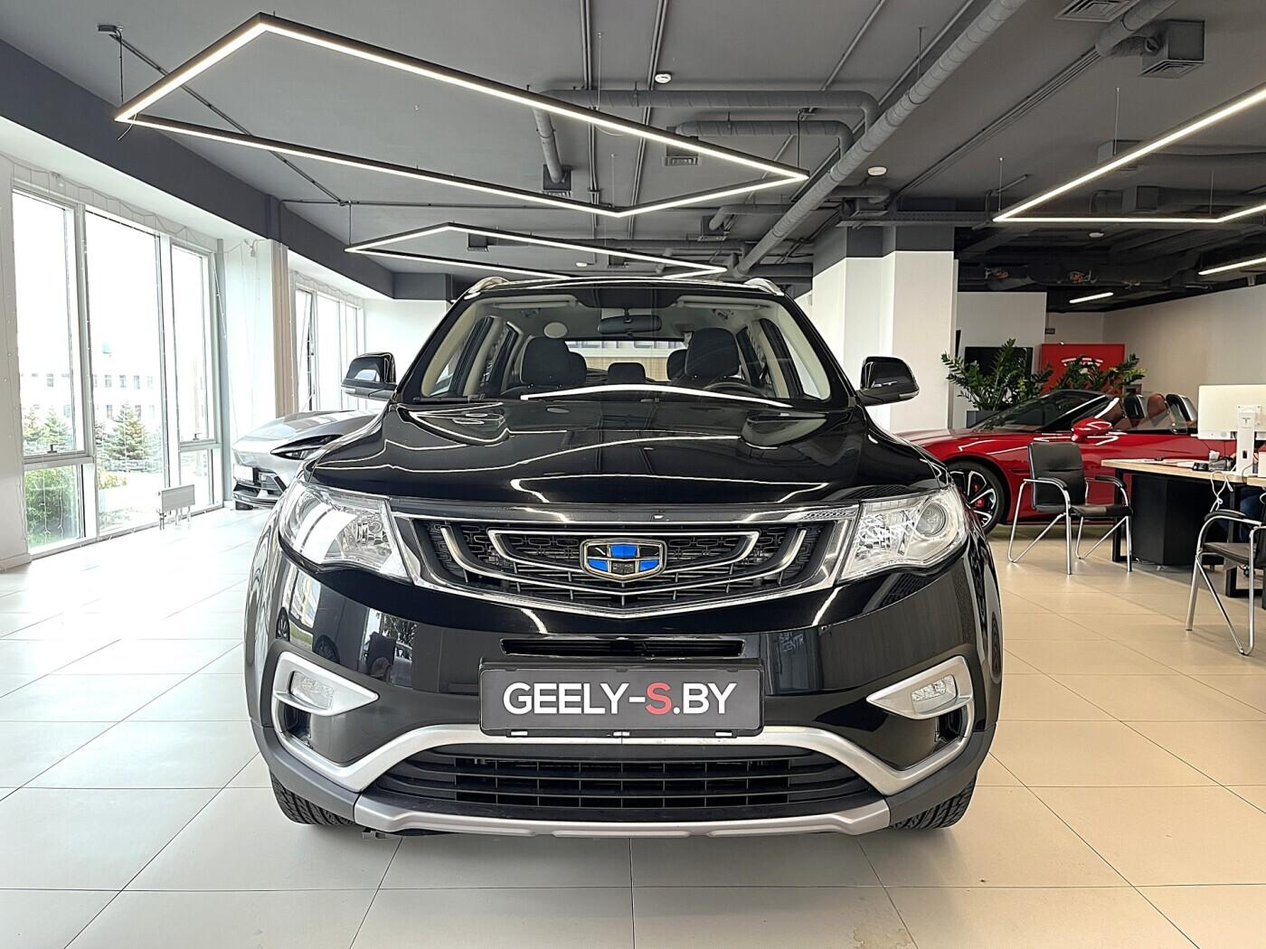Atlas_2016-2023: (244, 267, 1009, 862)
